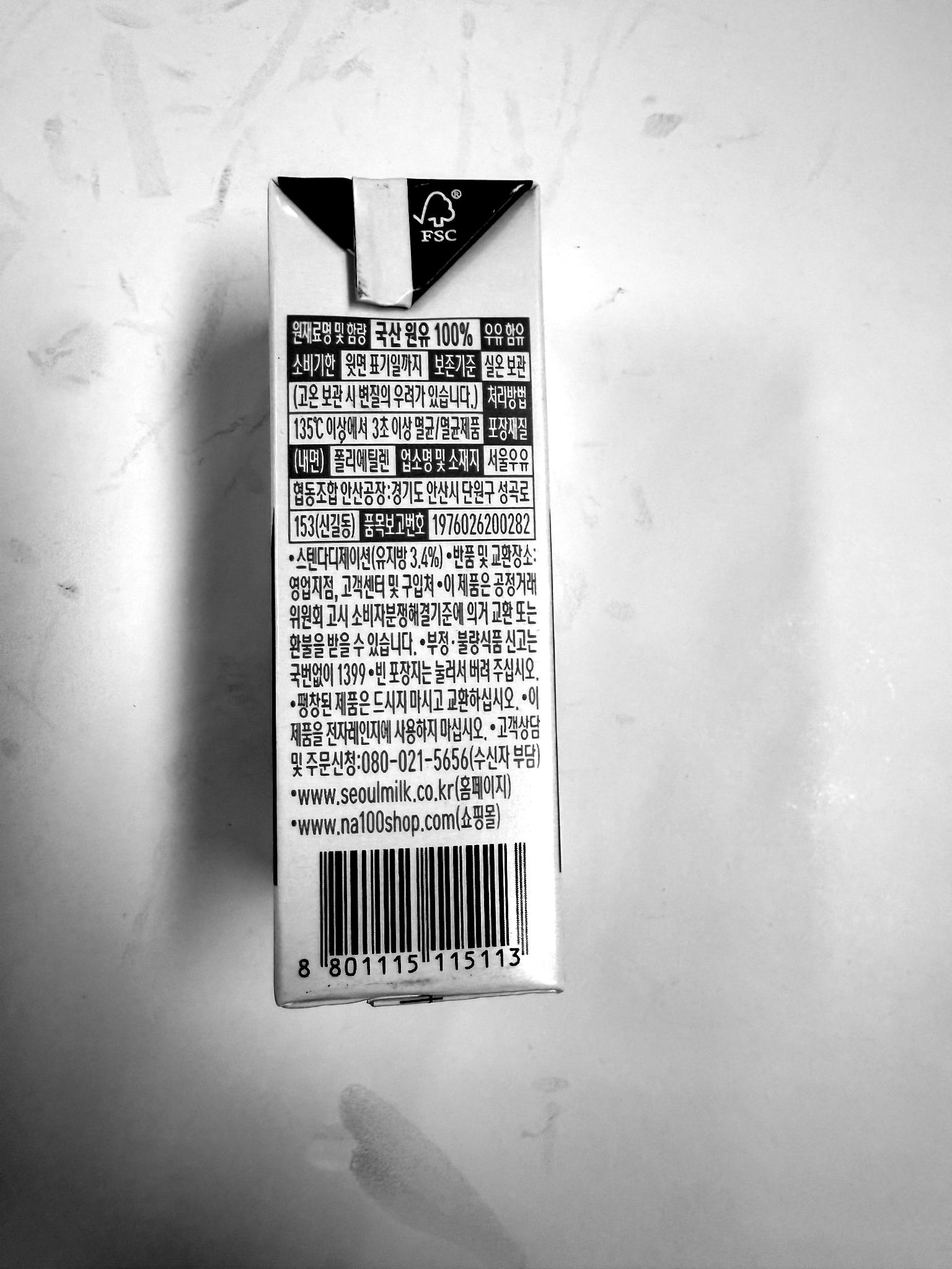milk_green: (272, 179, 564, 1010)
